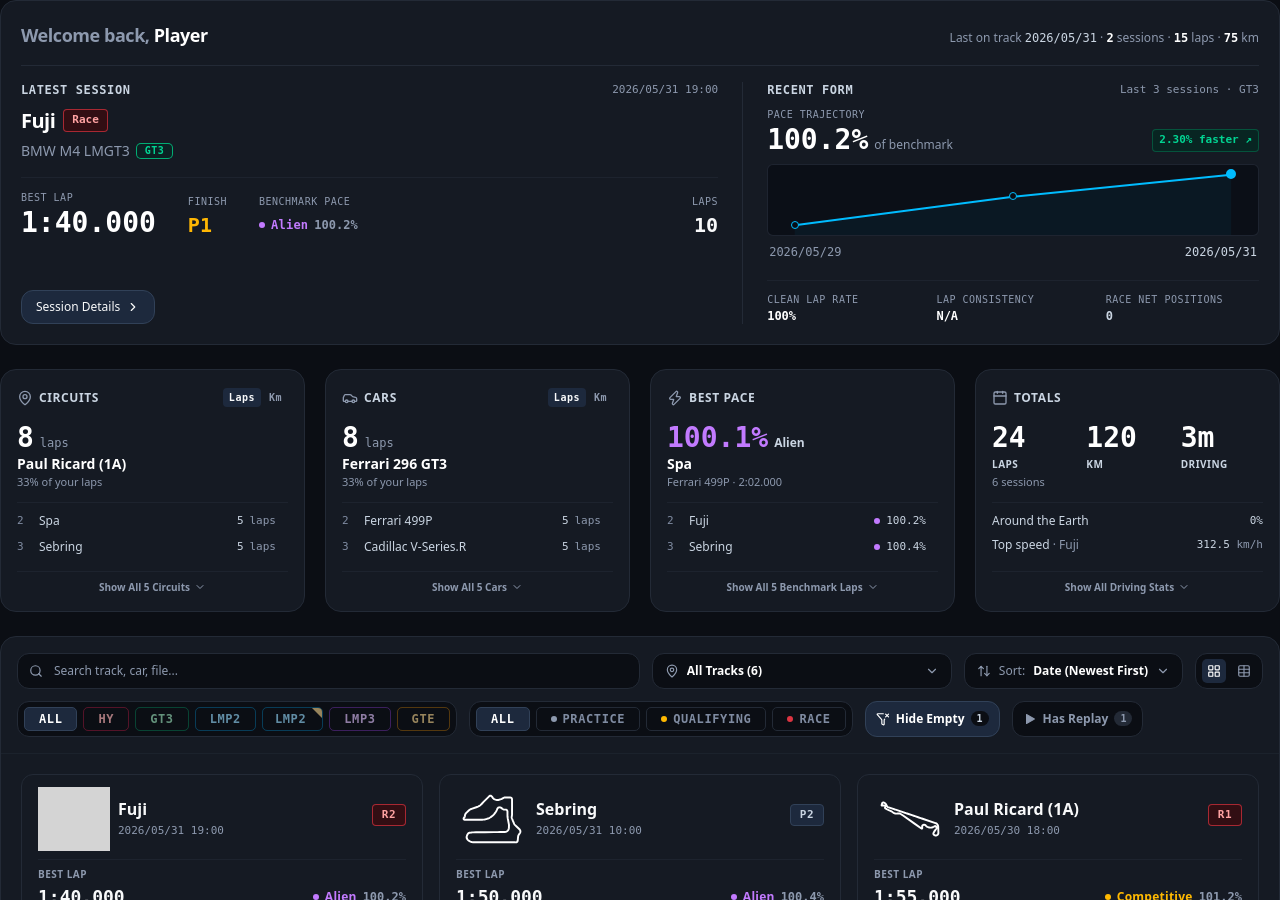
Test: Dashboard component - Metrics, Views & Aggregations › synchronizes card expansion across all cards and reveals extended driving overview statistics
This screenshot has width=1280, height=900.
Expected: the text "Clean flying laps" is not shown
Expected: the text "Pit stops" is not shown
Click the button "Show All Driving Stats" at [1128, 583], box [992,571,1263,595]
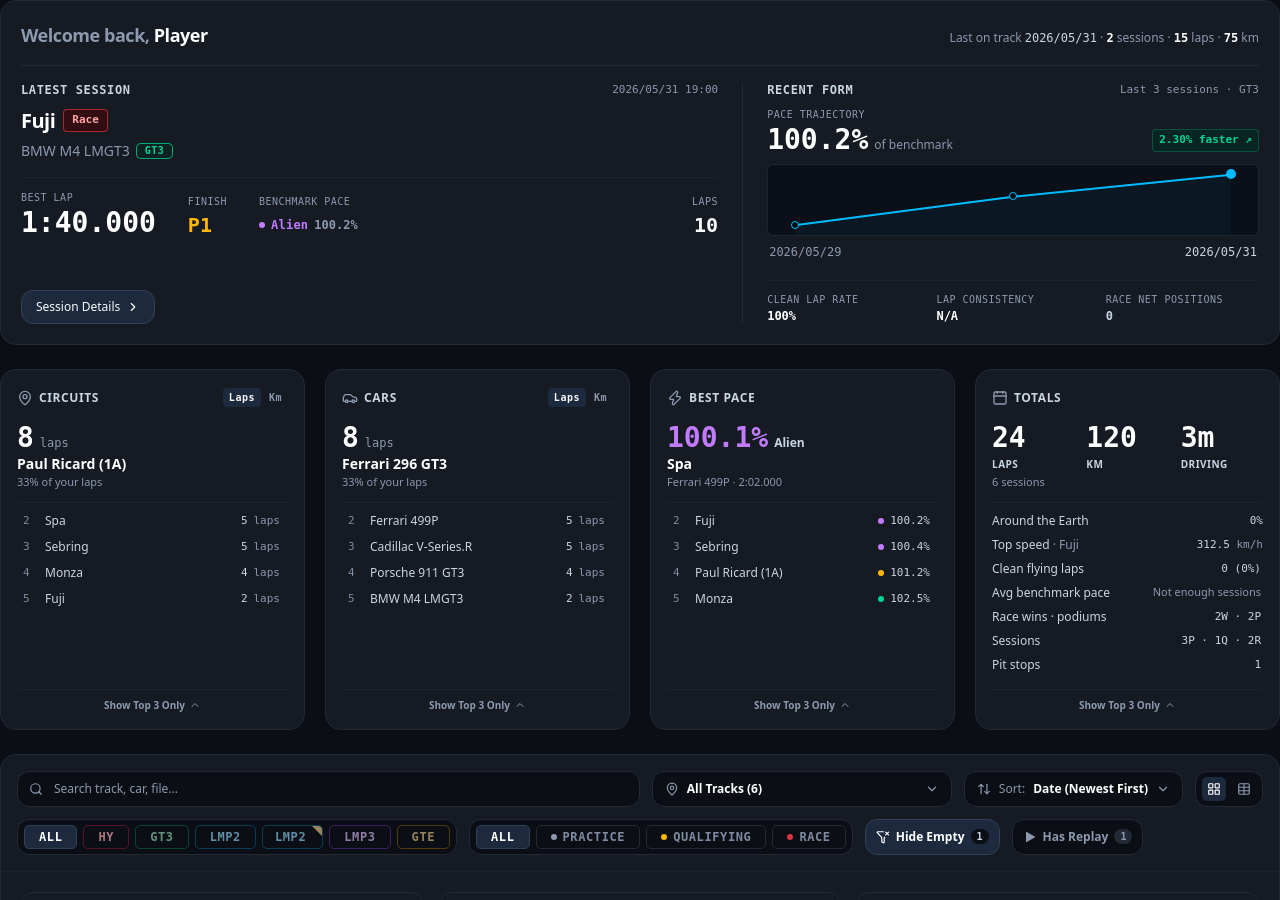
Expected: the text "Clean flying laps" is shown, [992,561,1084,577]
Expected: the text "Avg benchmark pace" is shown, [992,585,1110,601]
Expected: the text "Race wins · podiums" is shown, [992,609,1106,625]
Click the button "Show Top 3 Only" below "Circuits" at [152, 701], box [17,689,288,713]
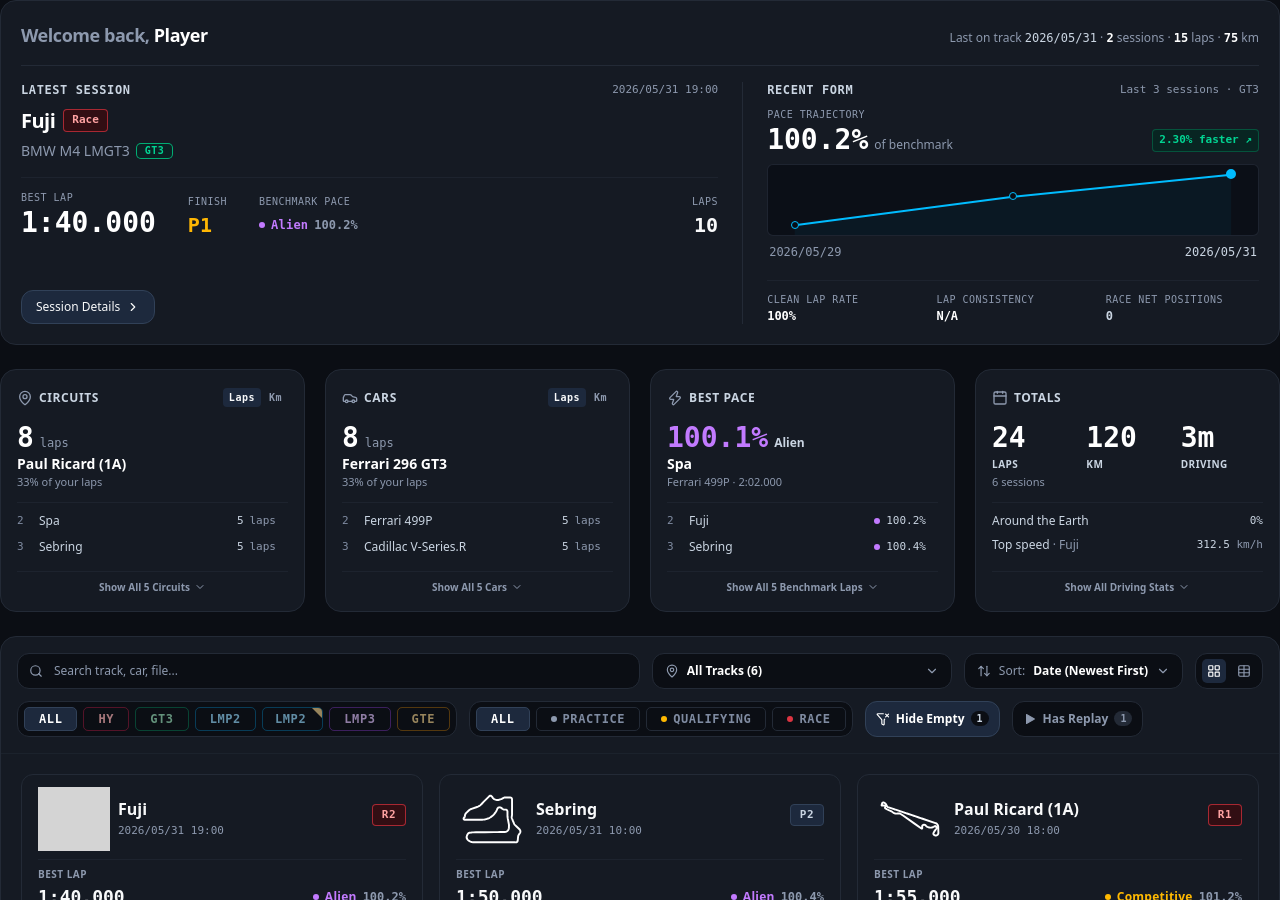
Expected: the text "Clean flying laps" is gone
Expected: the text "Pit stops" is gone
